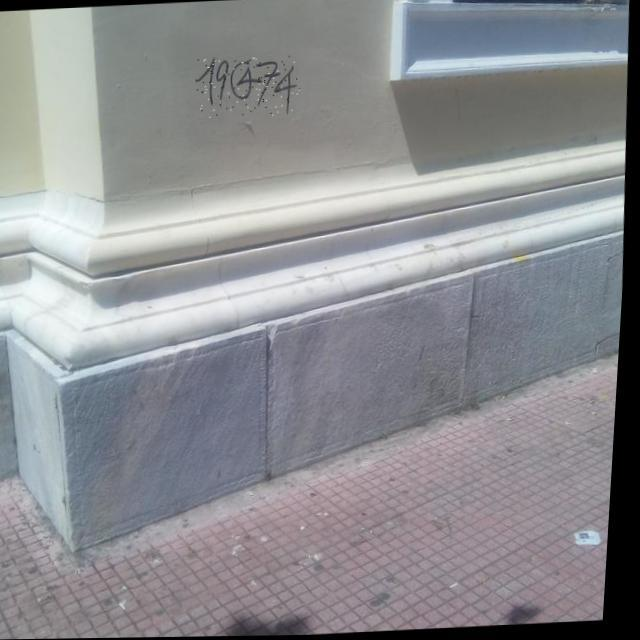-: (194, 54, 304, 120)
